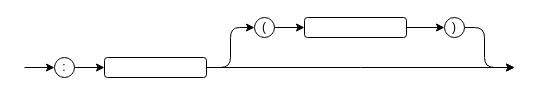
Some shapes in this 540 by 95 pixel diagram are drawn without their labels. The centre of each missing label's shape, as x and y in pixels:
key template: point 355,27
lookup name: point 155,67
